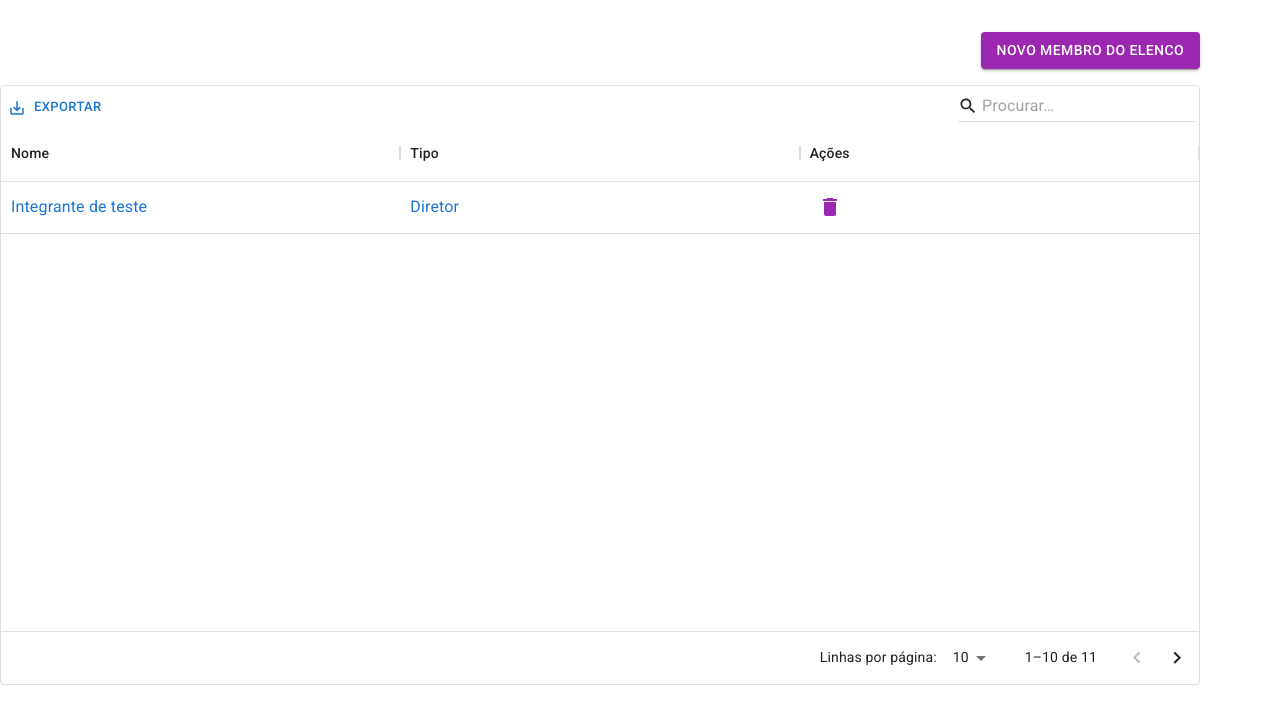
Test: Listagem de integrantes do elenco › deve carregar a próxima página
Expected: the text "Integrante de teste" is shown, left=11, top=195, right=147, bottom=219
Click the button named "Ir para a próxima página". click: x=1177, y=658
box: left=1157, top=638, right=1197, bottom=678
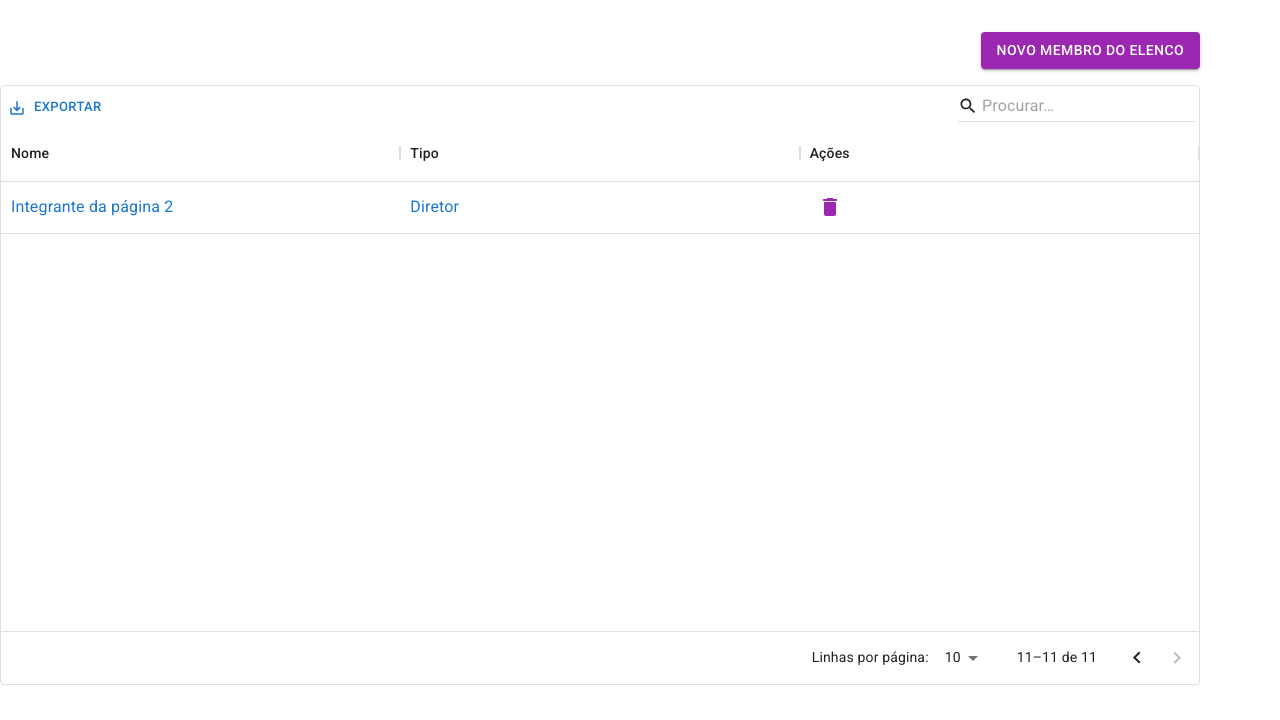
Now the text "Integrante da página 2" is shown, box left=11, top=195, right=173, bottom=219
Now the link "Integrante de teste" is gone
